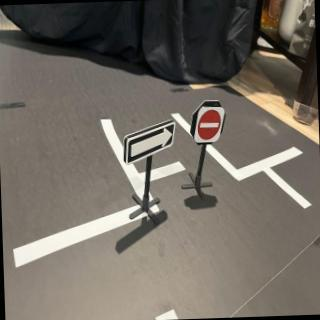sign_noentry: (192, 108, 229, 146)
sign_oneway_right: (122, 116, 180, 168)
